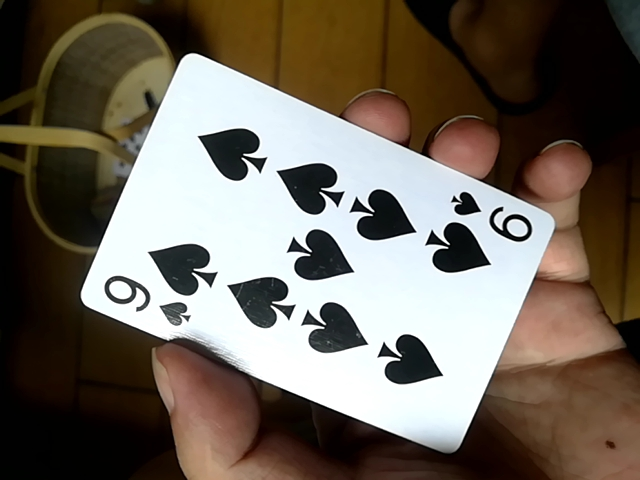ht 9: (76, 51, 560, 451)
